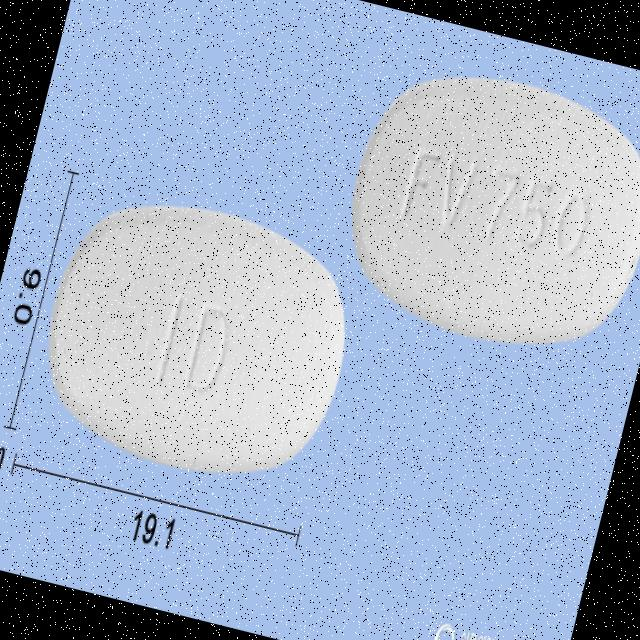Famvir -750mg: (24, 175, 373, 502), (324, 46, 640, 372)
